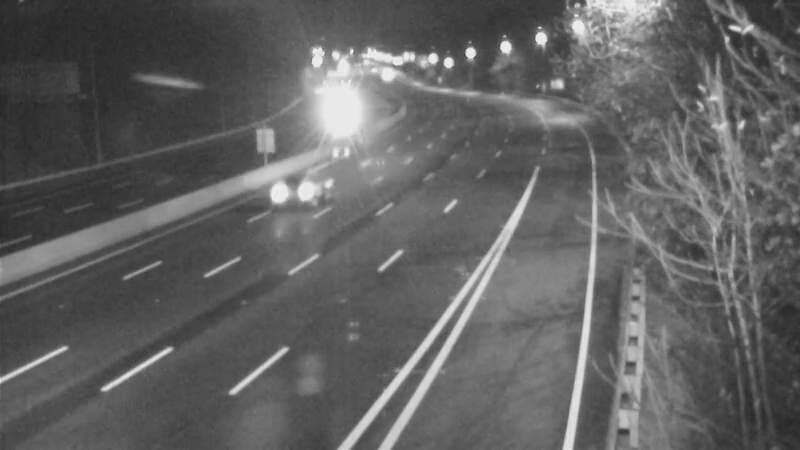vehicle: (256, 152, 336, 232), (316, 94, 366, 144)
